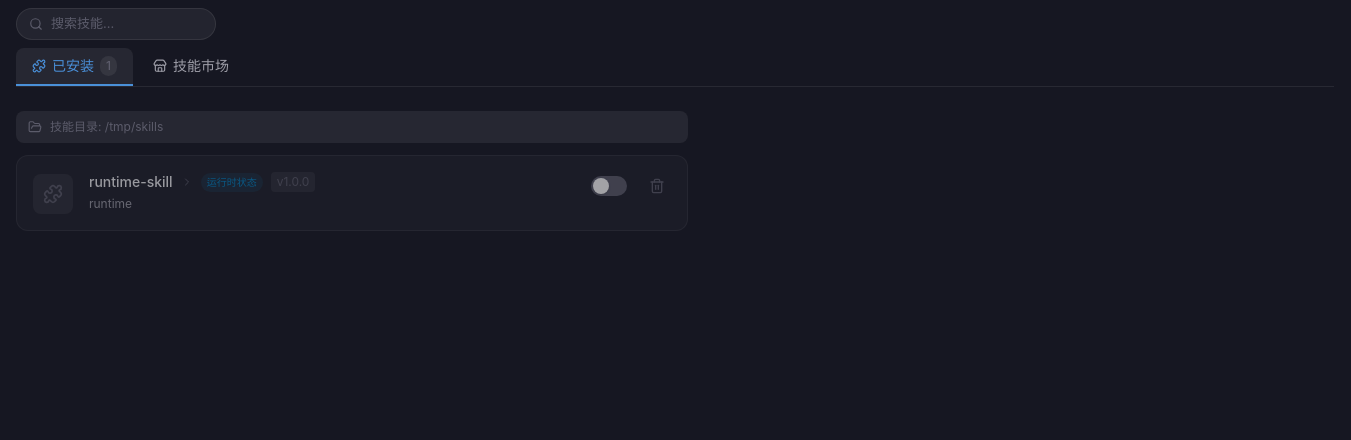
Test: SkillsView › reverts optimistic toggle state when runtime enable request throws
This screenshot has width=1351, height=440.
Click the button "runtime-skill" at {"x": 131, "y": 182}, box [89,172,173,192]
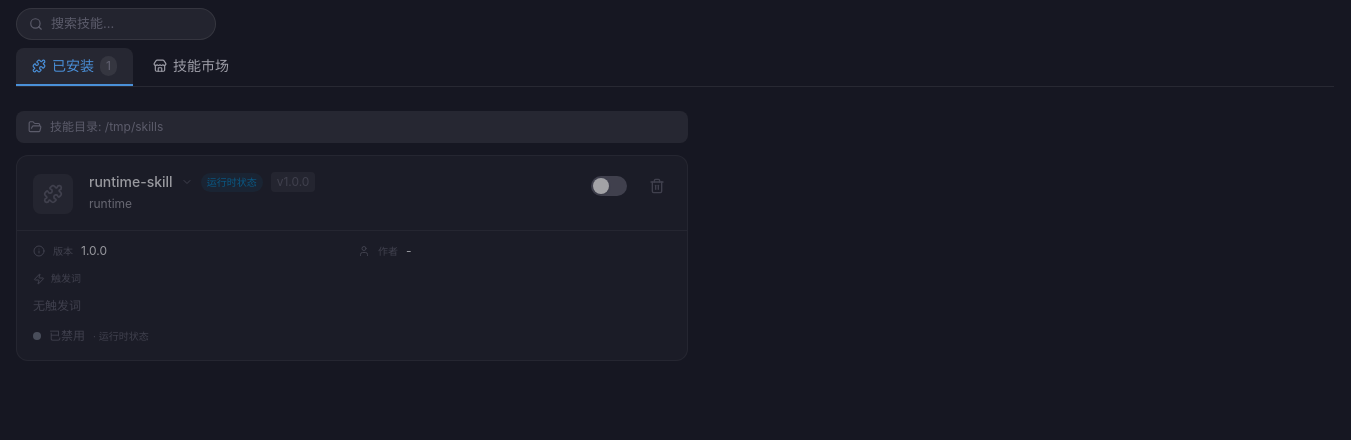
Click the button named "启用技能" at {"x": 609, "y": 186}, box [591,176,627,196]
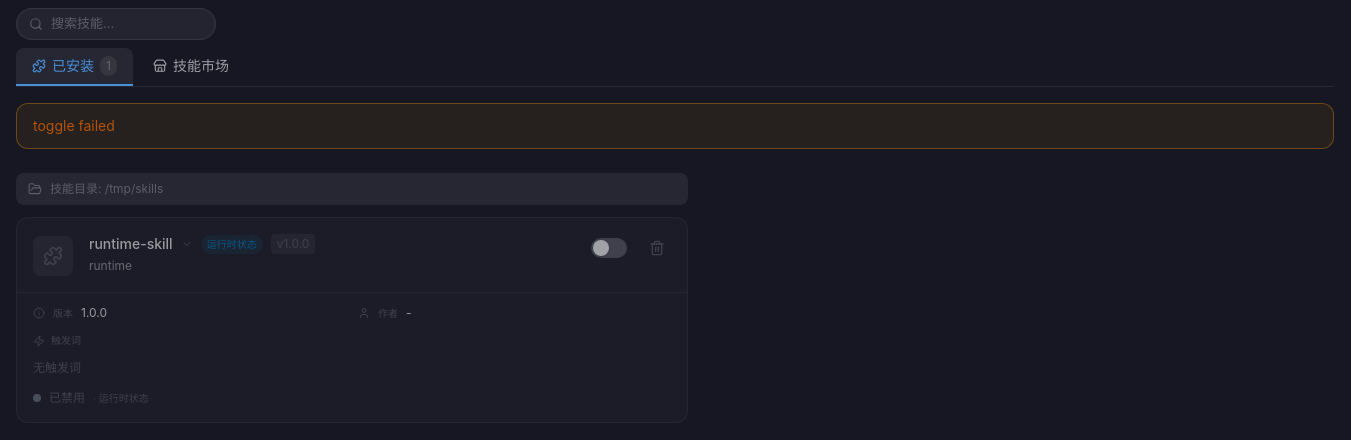
Expected: the text "已禁用" is shown, [49,390,85,406]
Expected: the text "toggle failed" is shown, [16,103,1334,149]
